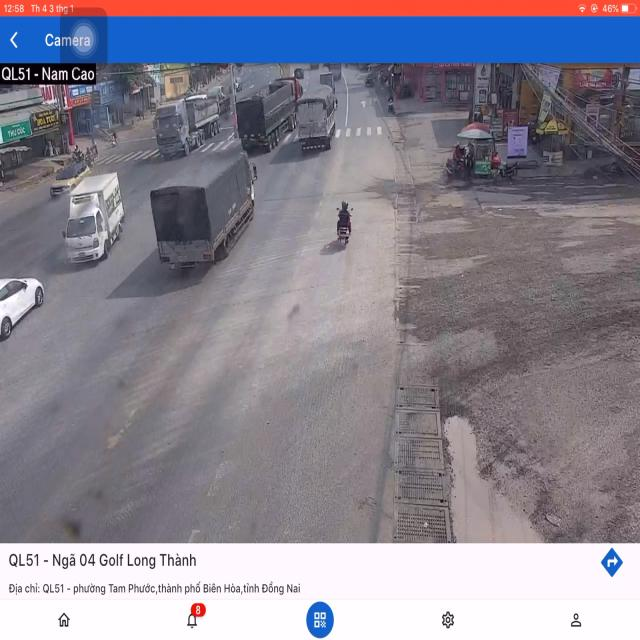car: (0, 274, 44, 344)
motorbike: (337, 198, 352, 249)
truck: (154, 152, 256, 278), (64, 170, 123, 268), (237, 80, 298, 150), (155, 93, 220, 154), (296, 87, 338, 155)
